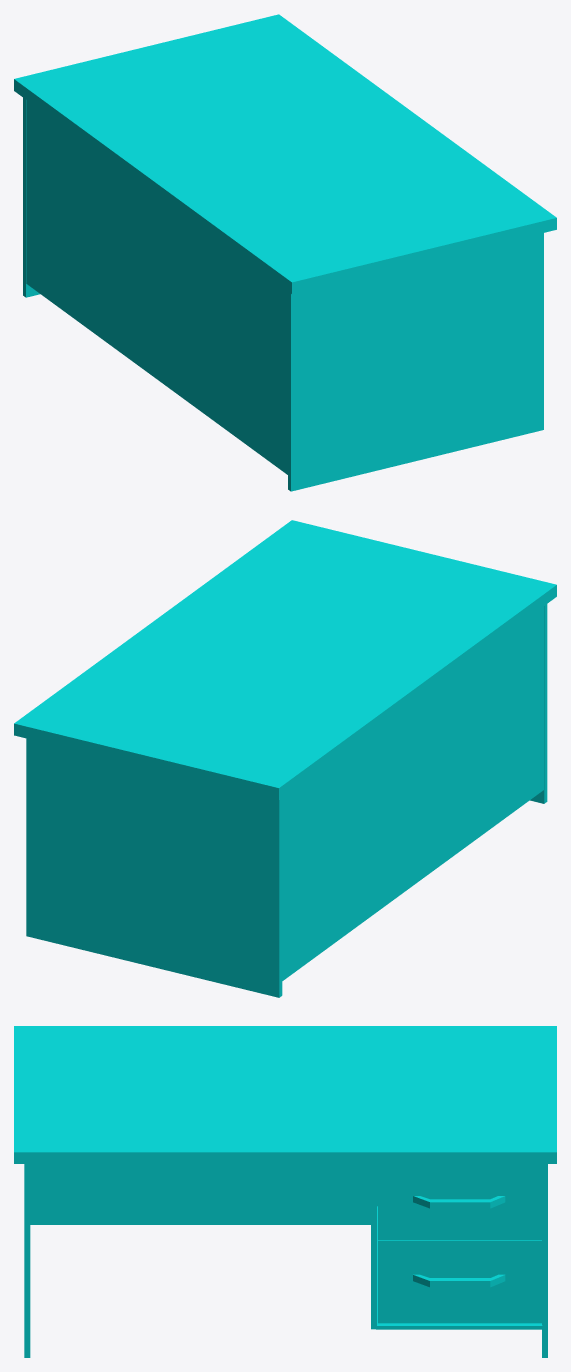
File: table.fbx
3 renders of one model, top to bottom at view 1: azimuth 30°, elevation 25°; view 2: azimuth 150°, elevation 25°; view 3: azimuth 270°, elevation 25°, orthographic. The views are drawn at different scales.
Parts seen in each view (by area): view 1: desk; view 2: desk; view 3: desk.
Boxes of the visible parts, x1,y1,x2,y2 form: desk: [14, 14, 556, 491]; desk: [14, 520, 556, 997]; desk: [14, 1026, 556, 1357].
Bounding box in the file's own units: 5.99 × 4.59 × 10.8.
